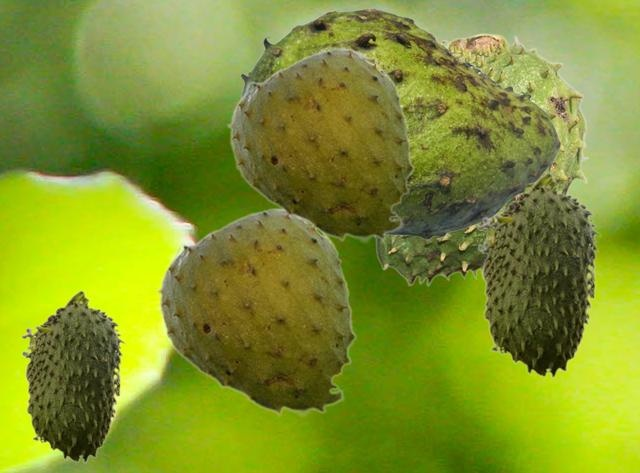guyabano: (239, 7, 560, 239), (374, 33, 588, 286), (155, 207, 356, 417), (226, 47, 414, 243), (477, 171, 601, 377), (21, 289, 125, 462)
